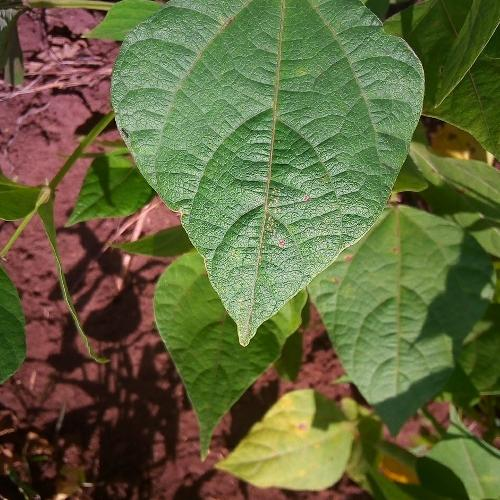hawar: (257, 180, 310, 270)
